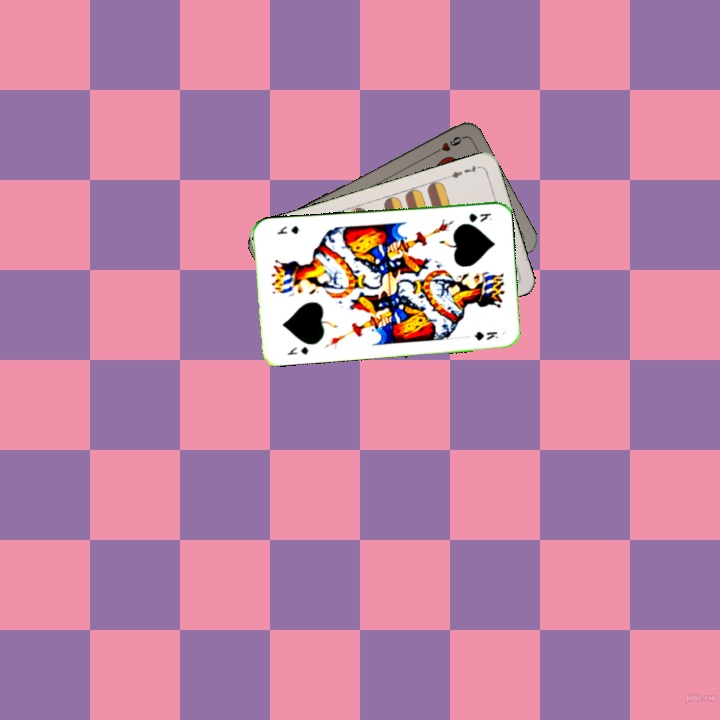E7: (443, 161, 483, 181)
GK: (465, 209, 494, 225), (283, 342, 311, 358)
H9: (428, 132, 466, 157)
